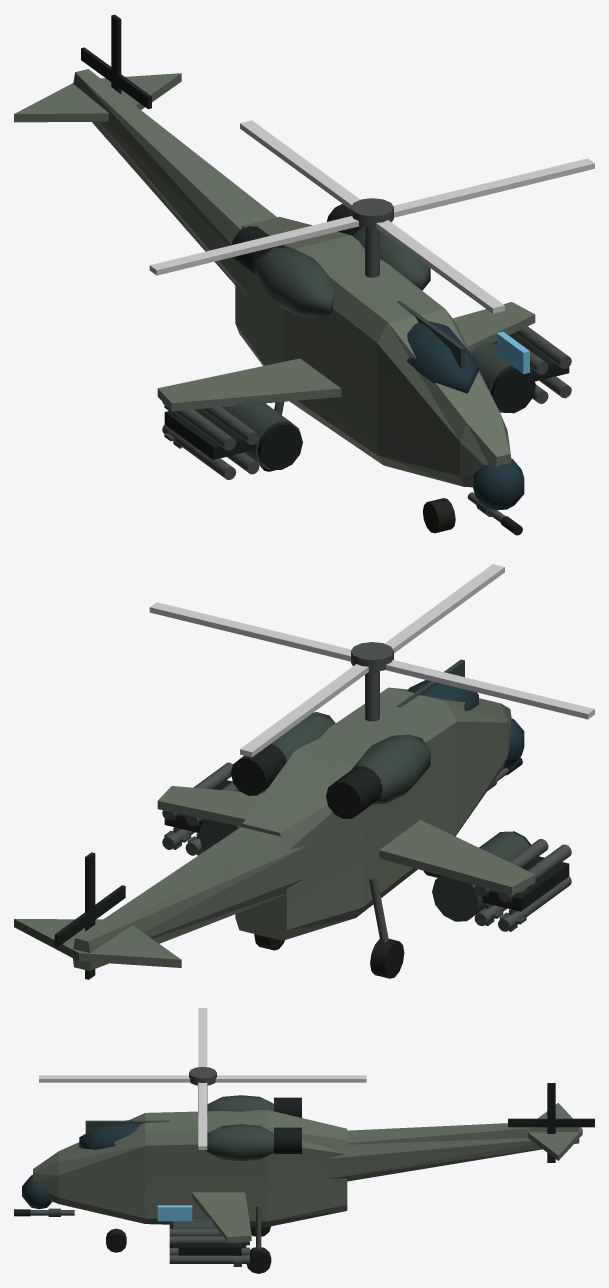
The model's file is gunship-lod.glb.
The picture shows the model from 3 angles, top to bottom: view 1: azimuth 30°, elevation 25°; view 2: azimuth 150°, elevation 25°; view 3: azimuth 270°, elevation 25°; orthographic projection. The views are drawn at different scales.
Parts seen in each view (by area): view 1: equipment (×6), marking; view 2: equipment (×6); view 3: equipment (×6), marking.
Boxes of the visible parts, x1,y1,x2,y2 form: equipment (×6): [14, 14, 594, 533]; marking: [496, 331, 529, 374]; equipment (×6): [14, 564, 594, 979]; equipment (×6): [14, 1008, 594, 1273]; marking: [157, 1205, 192, 1221].
Size of the model in its own units: 4.7 by 2.86 by 8.34.
